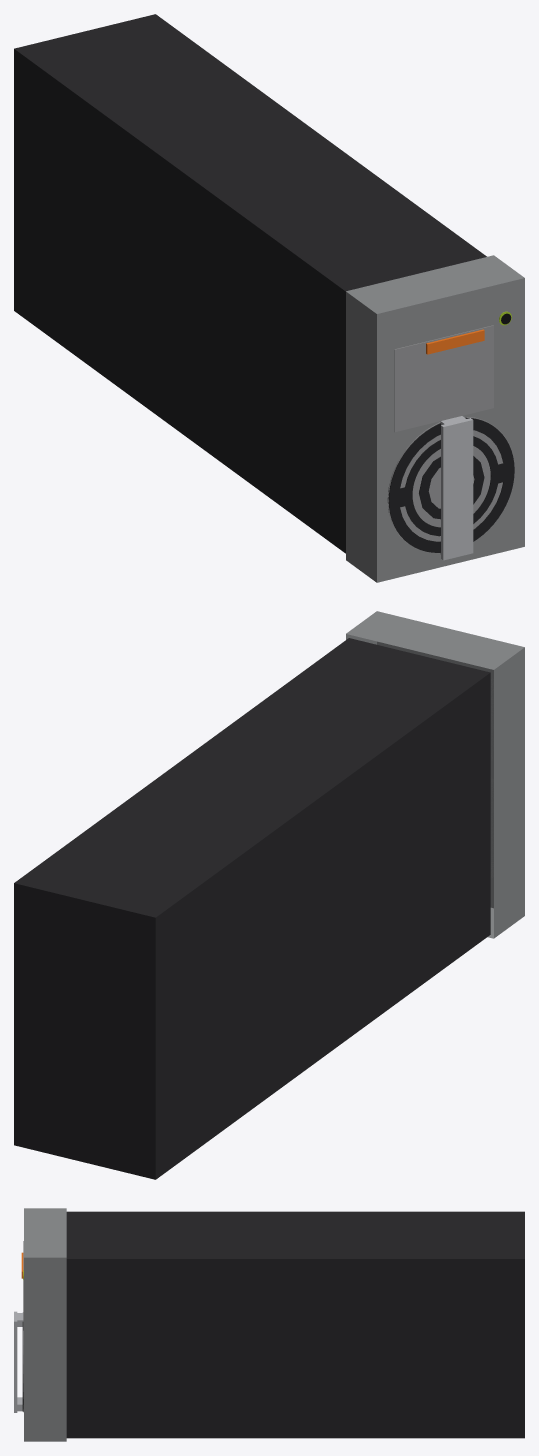
File: 4H60R.far.glb
The picture shows the model from 3 angles, top to bottom: view 1: azimuth 30°, elevation 25°; view 2: azimuth 150°, elevation 25°; view 3: azimuth 270°, elevation 25°; orthographic projection. The views are drawn at different scales.
Parts seen in each view (by area): view 1: PSU_far; view 2: PSU_far; view 3: PSU_far.
Part boxes in pixels (box(x1,y1,x2,y2)): PSU_far: box(14, 14, 524, 582); PSU_far: box(14, 611, 524, 1179); PSU_far: box(14, 1208, 524, 1441).
Bounding box in the file's own units: 0.0467 × 0.081 × 0.204.
Materials: 2 (1 with a texture image).
